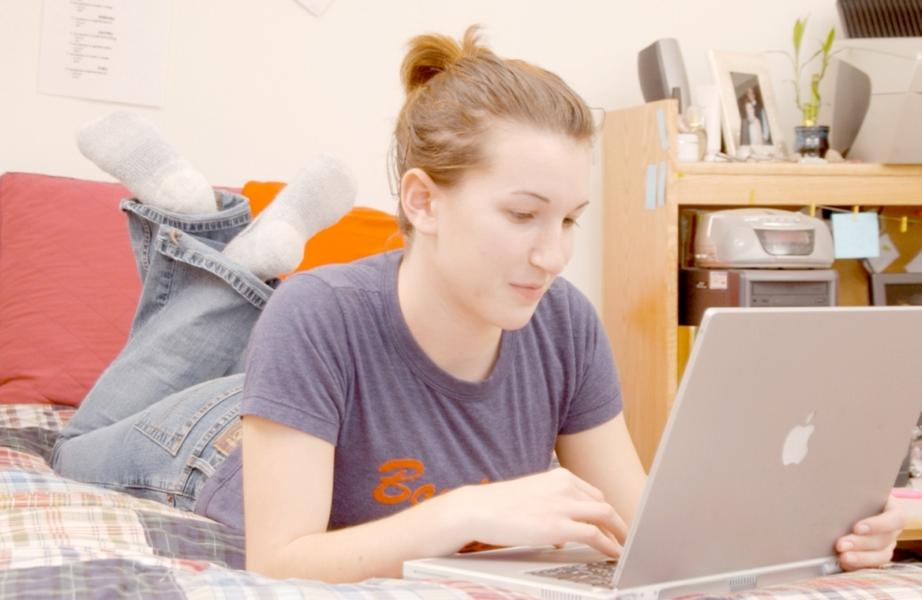person: (42, 22, 906, 586)
